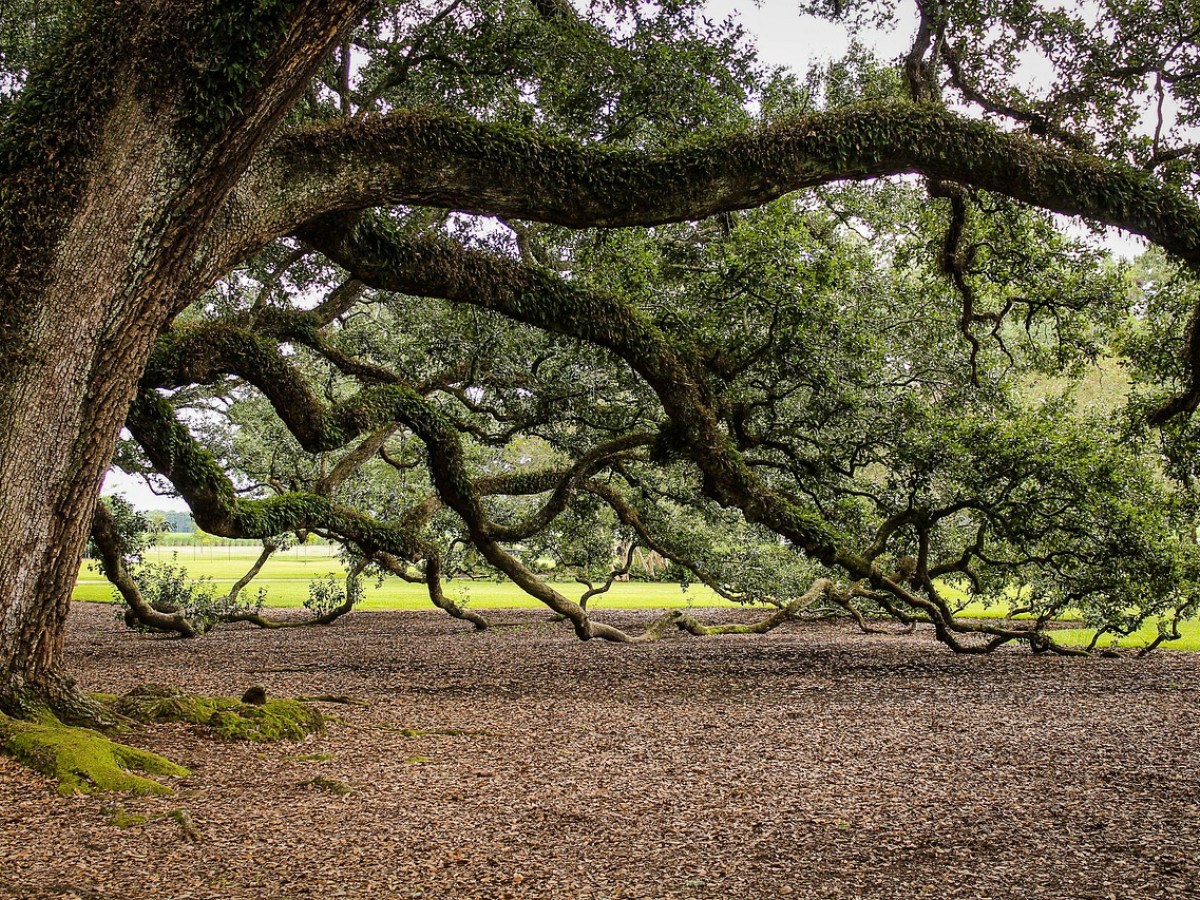dirt: (323, 641, 1185, 887), (4, 781, 311, 889), (79, 627, 320, 690), (1177, 760, 1187, 774)
tree: (0, 18, 331, 701)
